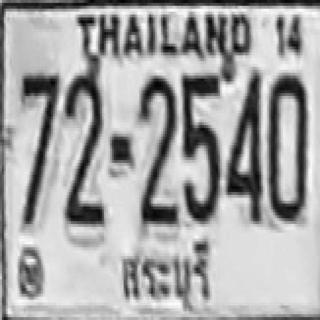N00: (267, 74, 306, 222)
N02: (63, 80, 104, 226), (137, 74, 177, 220), (136, 73, 176, 207)
N04: (225, 70, 262, 221)
N05: (181, 73, 220, 221)
N07: (20, 71, 59, 225), (20, 71, 59, 176)
P60: (114, 238, 221, 316)
